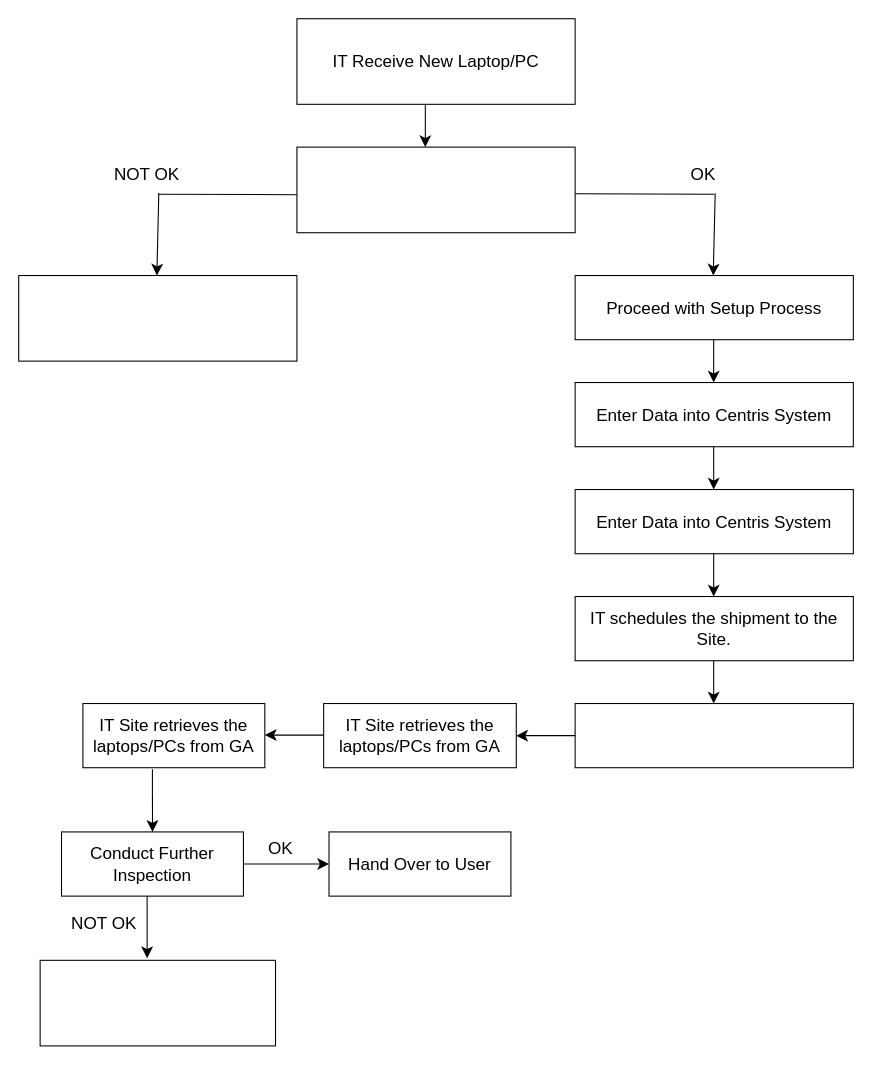
This 872x1065 diagram has some shape labels left out. The box of each missing label's shape, as (x1, y1, x2, y2) in pixels:
Conduct Initial Inspection: (296, 146, 575, 233)
Contact IT HO and Coordinate Return to Vendor for Replacement: (39, 959, 276, 1046)
Contact Vendor for Returns: (18, 274, 297, 361)
The goods arrive at the General Affairs (GA): (574, 702, 853, 768)
